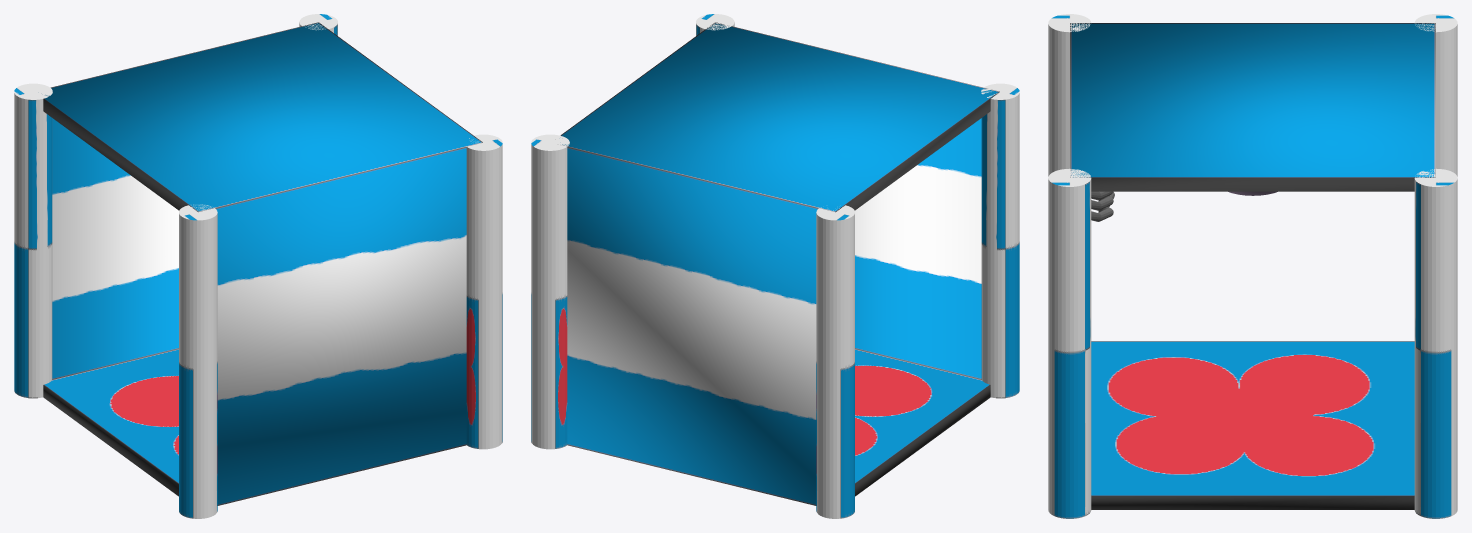
File: room_cube.fbx
3 renders of one model, left to right at view 1: azimuth 30°, elevation 25°; view 2: azimuth 150°, elevation 25°; view 3: azimuth 270°, elevation 25°, orthographic. The views are drawn at different scales.
Visible parts, largest first — view 1: Cube, Cube.002; view 2: Cube, Cube.002; view 3: Cube, Cube.002, Cube.001.
Boxes of the visible parts, bbox=[...] form: Cube: bbox=[43, 22, 482, 505]; Cube.002: bbox=[14, 14, 502, 518]; Cube: bbox=[560, 22, 999, 505]; Cube.002: bbox=[531, 14, 1019, 518]; Cube: bbox=[1070, 23, 1435, 509]; Cube.002: bbox=[1048, 14, 1457, 518]; Cube.001: bbox=[1091, 191, 1114, 221].
Size of the model in its own units: 1900 by 1700 by 1900.
